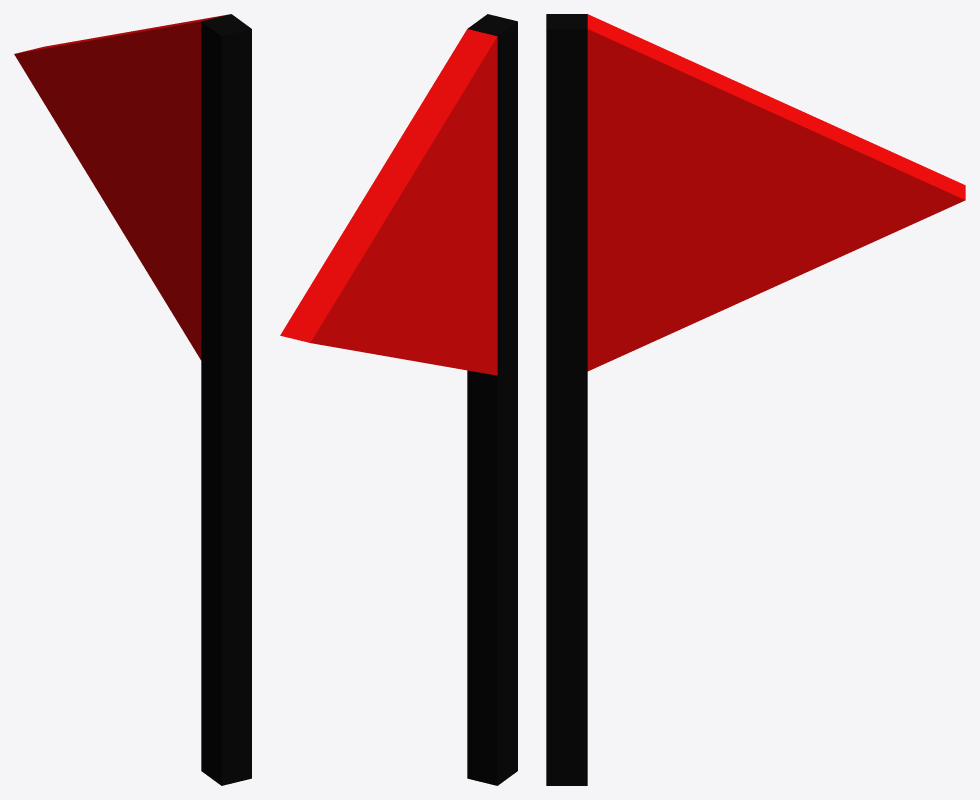
Rendered from triangle.dae.
3 views of the same model, side by side, from view 1: azimuth 30°, elevation 25°; view 2: azimuth 150°, elevation 25°; view 3: azimuth 270°, elevation 25° (orthographic).
Parts seen in each view (by area): view 1: Plane; view 2: Plane; view 3: Plane.
Boxes of the visible parts, x1=… form: Plane: x1=14, y1=14, x2=251, y2=785; Plane: x1=280, y1=14, x2=517, y2=785; Plane: x1=546, y1=14, x2=965, y2=785.
Size of the model in its own units: 0.00671 by 0.0796 by 0.1586.
